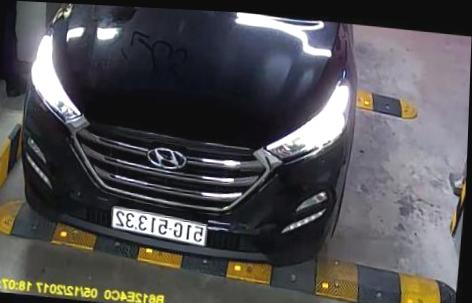License_Plate: (106, 204, 216, 247)
